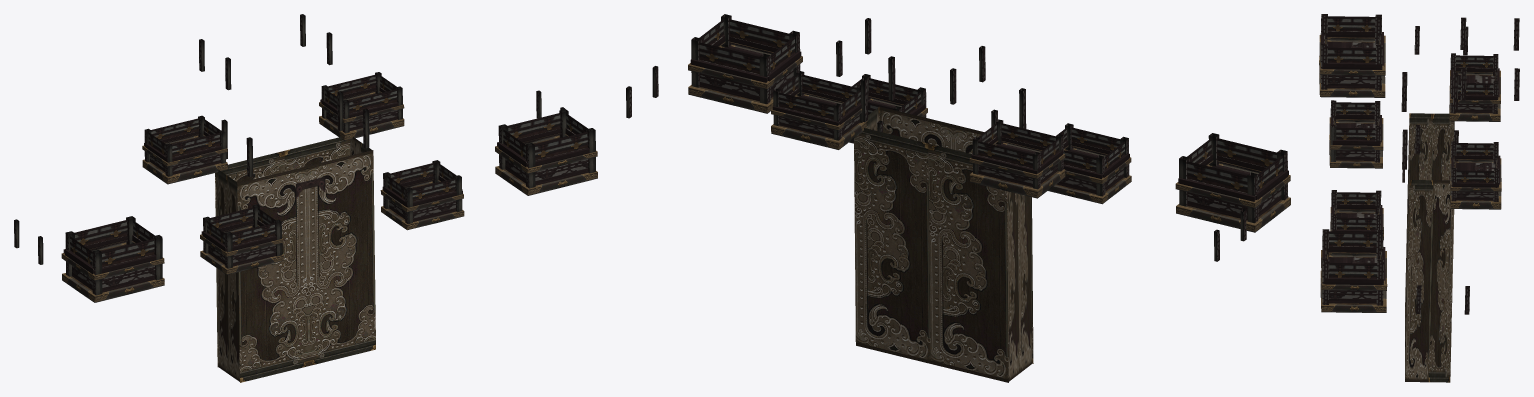
Rendered from jd_fangzi_2.FBX.
The picture shows the model from 3 angles, left to right: view 1: azimuth 30°, elevation 25°; view 2: azimuth 150°, elevation 25°; view 3: azimuth 270°, elevation 25°; orthographic projection. The views are drawn at different scales.
Parts seen in each view (by area): view 1: jd_fangzi_2; view 2: jd_fangzi_2; view 3: jd_fangzi_2.
Part boxes in pixels (x1,y1,x2,y2): jd_fangzi_2: [14, 14, 597, 382]; jd_fangzi_2: [626, 14, 1290, 382]; jd_fangzi_2: [1319, 14, 1519, 382].
Size of the model in its own units: 2331 by 1271 by 756.
